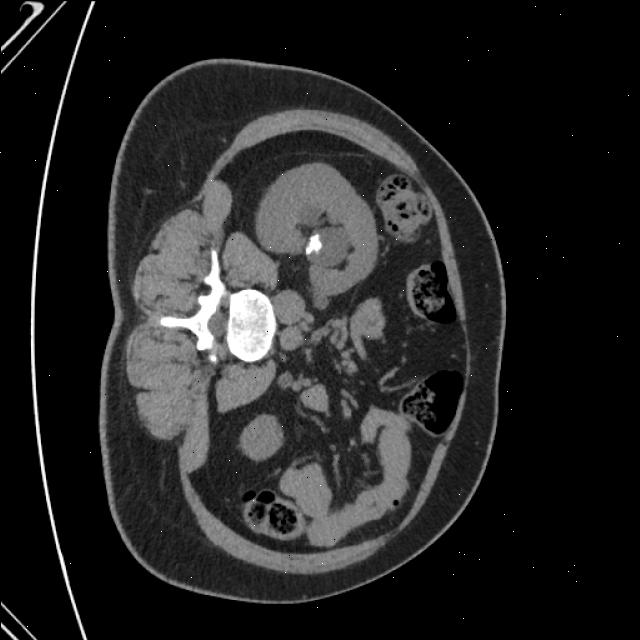kidneystone: (304, 234, 320, 255)
